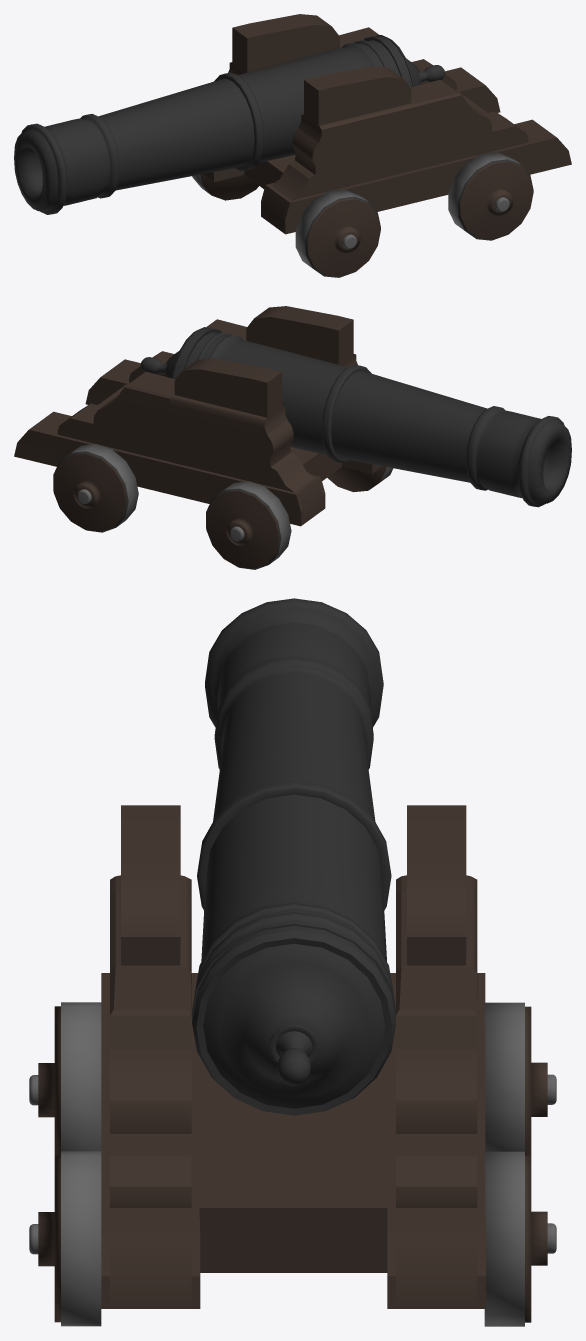
File: _annon.fbx
The picture shows the model from 3 angles, top to bottom: view 1: azimuth 30°, elevation 25°; view 2: azimuth 150°, elevation 25°; view 3: azimuth 270°, elevation 25°; orthographic projection. The views are drawn at different scales.
Visible parts, largest first — view 1: Canon_cart, Canon_tube; view 2: Canon_cart, Canon_tube; view 3: Canon_cart, Canon_tube.
Part boxes in pixels (x1,y1,x2,y2): Canon_cart: (192,14,571,277); Canon_tube: (14,35,444,214); Canon_cart: (14,306,393,569); Canon_tube: (140,327,571,507); Canon_cart: (29,805,556,1326); Canon_tube: (191,598,395,1115).
Bounding box in the file's own units: 640 × 220 × 296.
1 material, 1 textured.
